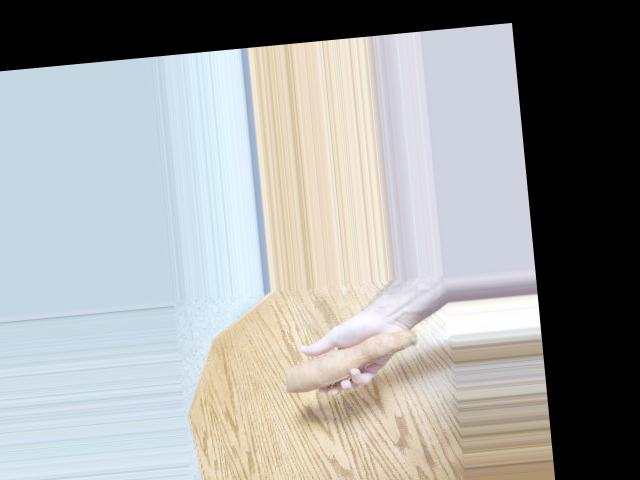sweet_potato: (279, 327, 435, 399)
